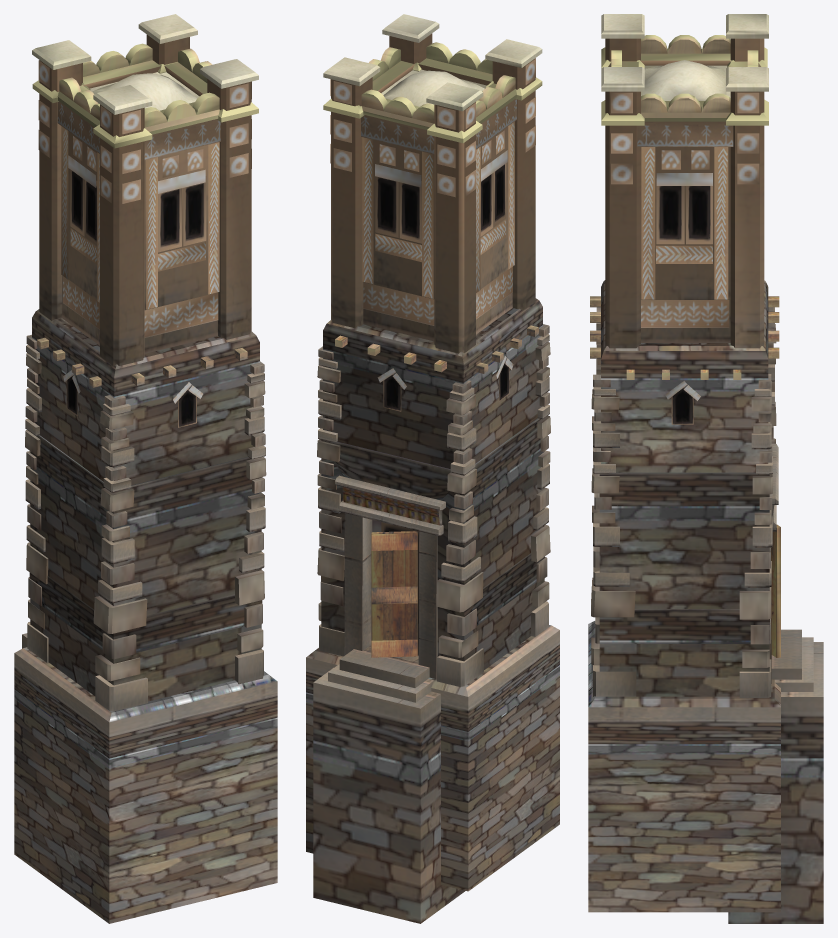
File: kush_defense_tower_stone.glb
3 renders of one model, left to right at view 1: azimuth 30°, elevation 25°; view 2: azimuth 150°, elevation 25°; view 3: azimuth 270°, elevation 25°, orthographic. The views are drawn at different scales.
Visible parts, largest first — view 1: kush_defense_tower_stone_part0; view 2: kush_defense_tower_stone_part0; view 3: kush_defense_tower_stone_part0.
Boxes of the visible parts, box(x1,y1,x2,y2) form: kush_defense_tower_stone_part0: box(14, 14, 277, 923); kush_defense_tower_stone_part0: box(306, 14, 559, 923); kush_defense_tower_stone_part0: box(588, 14, 823, 923).
Bounding box in the file's own units: 1.85 × 8.74 × 2.2.
1 material, 1 textured.
